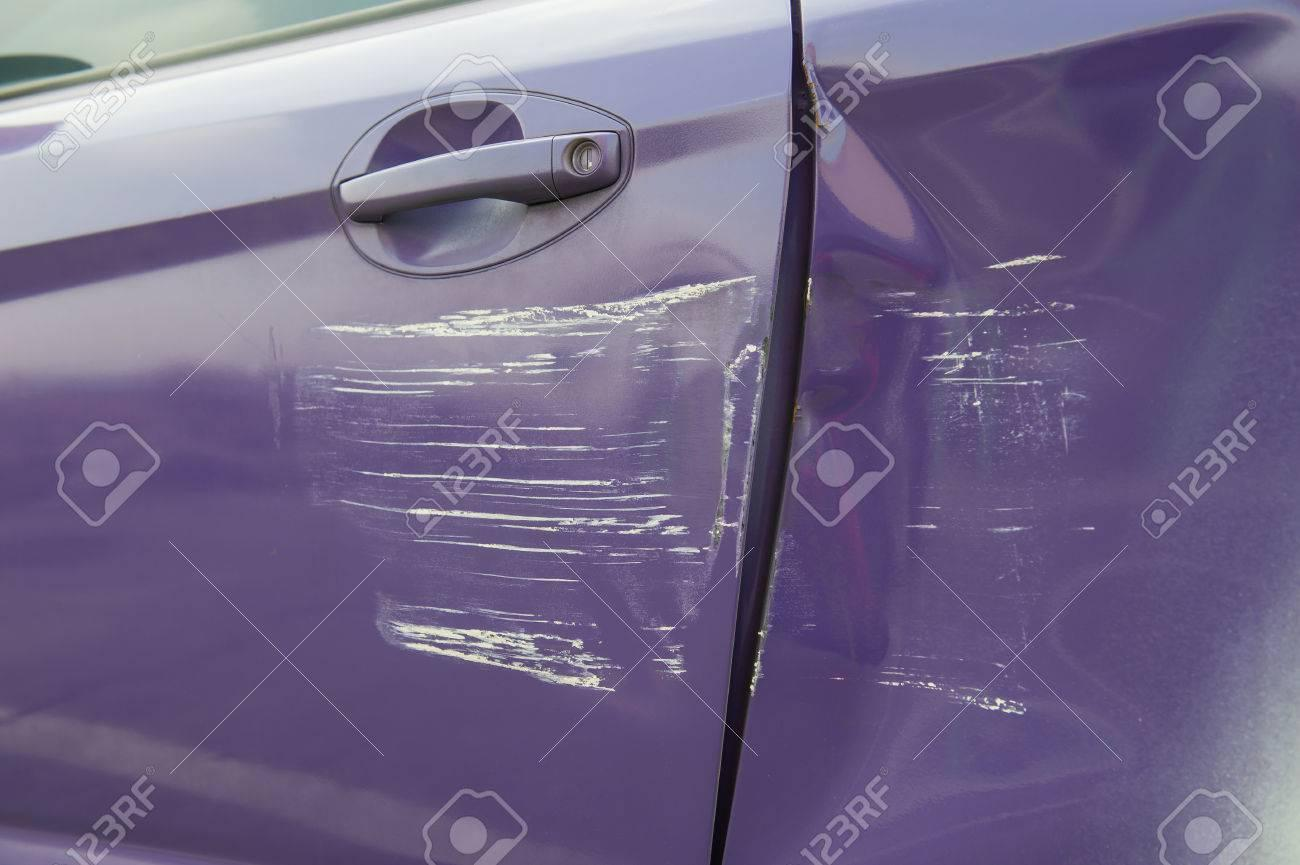scratch: (285, 212, 1105, 740)
